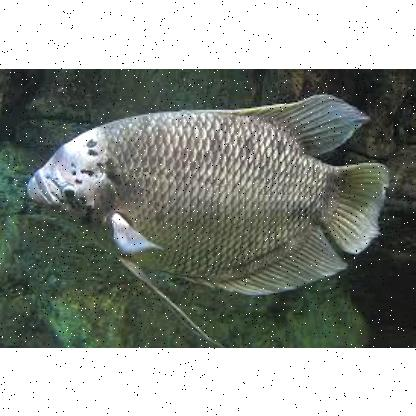gurame: (25, 100, 389, 298)
